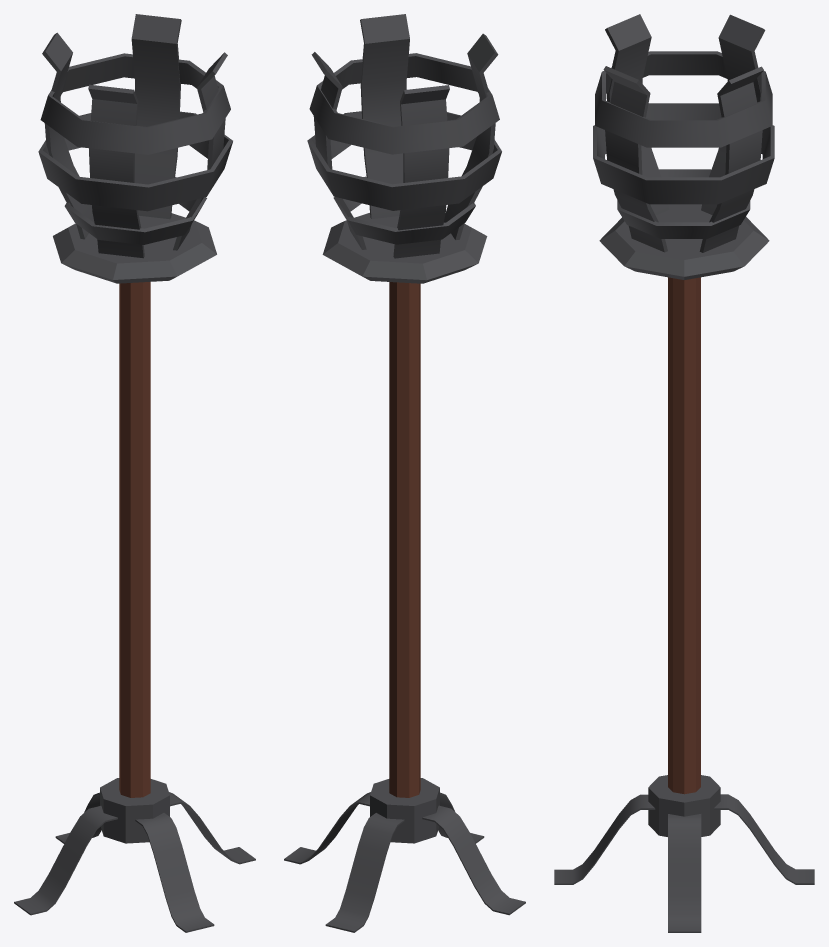
File: SM_ModularKit_TorchStanding.fbx
The picture shows the model from 3 angles, left to right: view 1: azimuth 30°, elevation 25°; view 2: azimuth 150°, elevation 25°; view 3: azimuth 270°, elevation 25°; orthographic projection.
Parts seen in each view (by area): view 1: TorchStanding; view 2: TorchStanding; view 3: TorchStanding.
Part boxes in pixels (bbox=[...]): TorchStanding: bbox=[14, 14, 255, 932]; TorchStanding: bbox=[284, 14, 525, 932]; TorchStanding: bbox=[554, 14, 814, 932].
Size of the model in its own units: 62.99 by 222 by 62.99.
